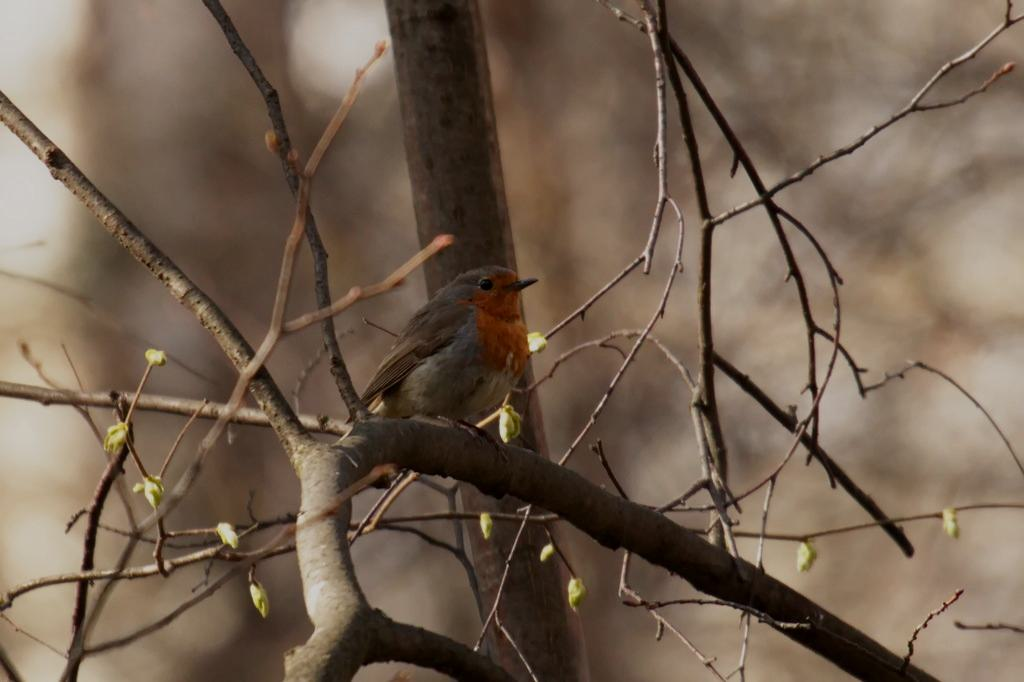ErithacusRubecula: (344, 265, 538, 463)
